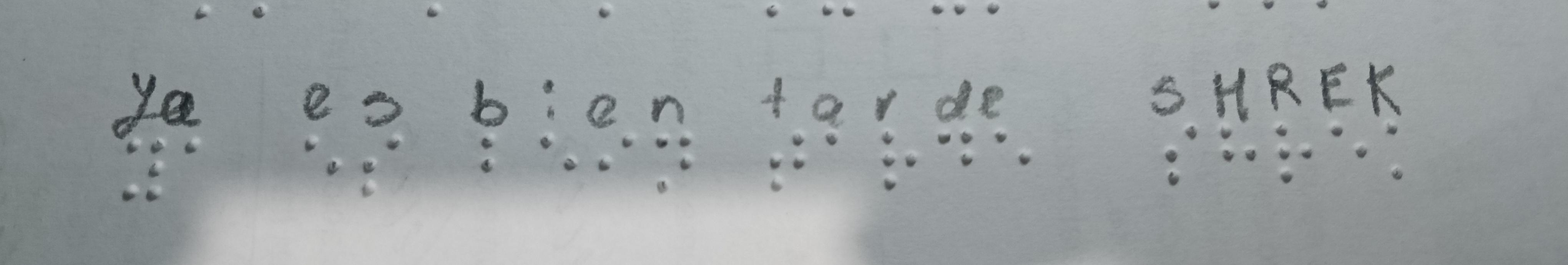a: (167, 132, 214, 160), (813, 124, 849, 154)
b: (465, 127, 509, 173)
d: (935, 124, 979, 170)
e: (582, 132, 641, 178), (986, 125, 1036, 178), (301, 128, 342, 188), (1323, 116, 1368, 170)
h: (1209, 125, 1261, 175)
i: (537, 131, 578, 178)
k: (1375, 118, 1413, 187)
n: (643, 131, 703, 202)
r: (867, 122, 922, 191), (1271, 116, 1319, 186)
s: (1144, 120, 1204, 192), (359, 128, 411, 197)
t: (752, 127, 810, 196)
y: (122, 131, 165, 210)
